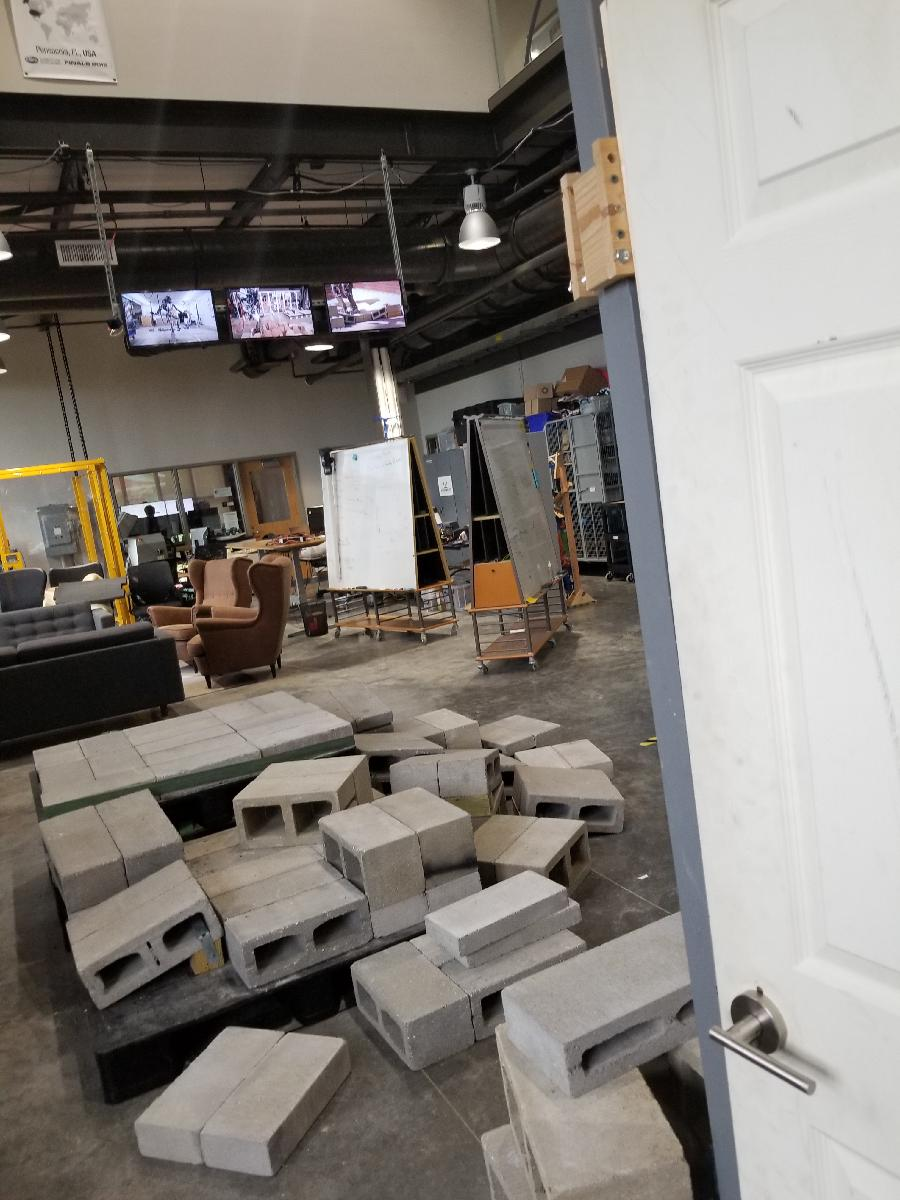doorHandle: (703, 981, 821, 1099)
